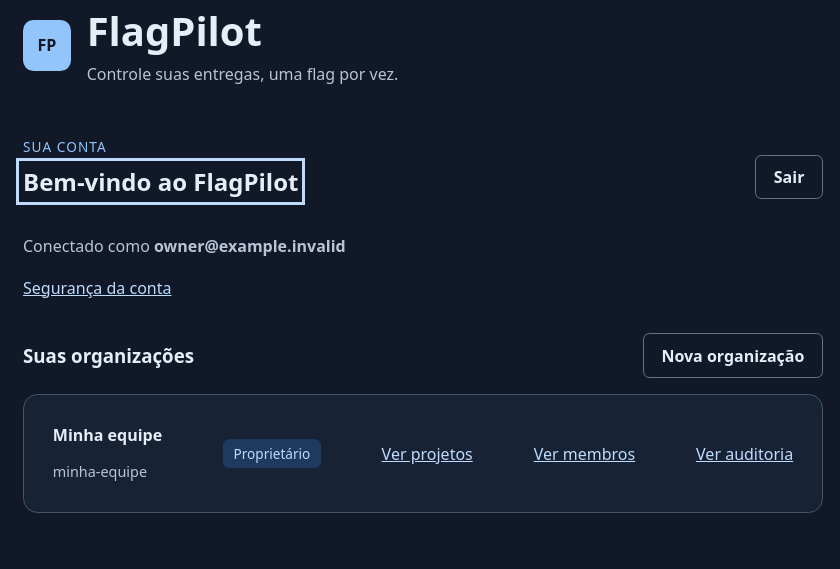
restaura identidade e mantém sessão visível quando logout falha
Click the button "Sair": {"x": 789, "y": 177} [755,154,823,199]
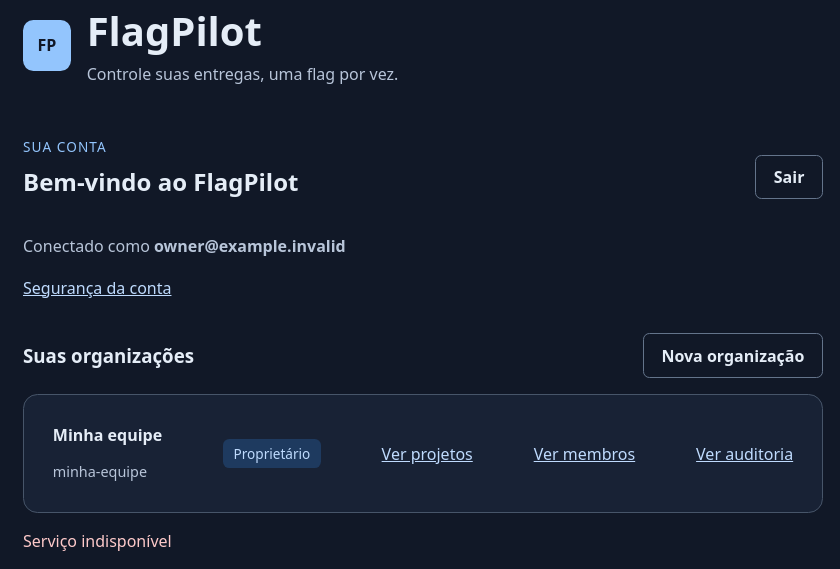
expect the text "Minha equipe" is shown: met, box [53,424,162,446]
expect the message "Serviço indisponível" is shown: met, box [23,530,172,552]
